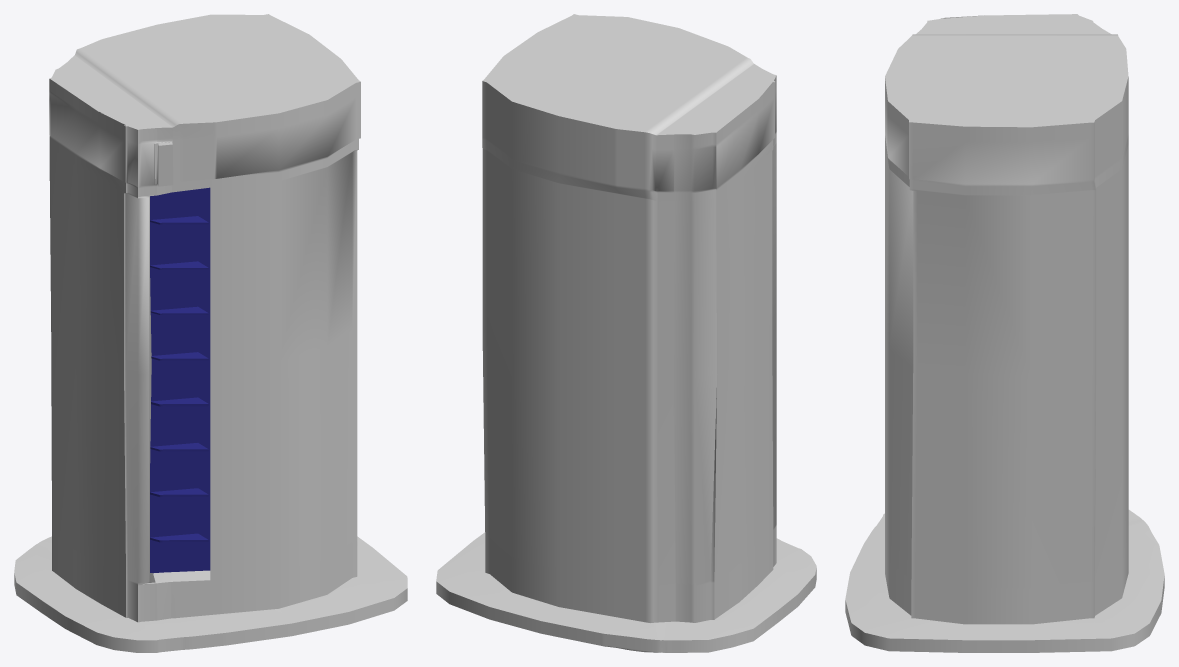
The model's file is aircleaner.fbx.
3 renders of one model, left to right at view 1: azimuth 30°, elevation 25°; view 2: azimuth 150°, elevation 25°; view 3: azimuth 270°, elevation 25°, orthographic.
Visible parts, largest first — view 1: polySurface10AC, ACpolySurface11; view 2: polySurface10AC; view 3: polySurface10AC.
Boxes of the visible parts, <box> form: polySurface10AC: <box>14,14,407,652</box>; ACpolySurface11: <box>150,187,210,573</box>; polySurface10AC: <box>436,14,816,652</box>; polySurface10AC: <box>845,14,1164,652</box>.
Size of the model in its own units: 42.26 by 67.97 by 38.43.
